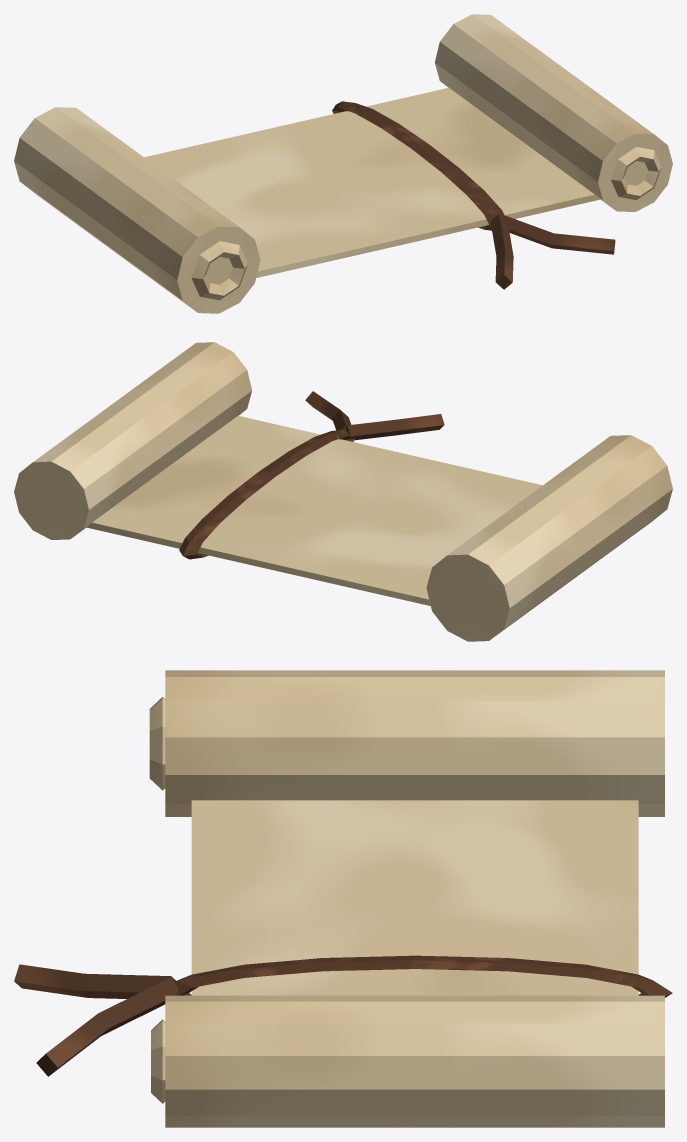
Rendered from parchment_scroll.glb.
The picture shows the model from 3 angles, top to bottom: view 1: azimuth 30°, elevation 25°; view 2: azimuth 150°, elevation 25°; view 3: azimuth 270°, elevation 25°; orthographic projection. The views are drawn at different scales.
Parts seen in each view (by area): view 1: parchment_scroll_parchment, parchment_scroll_tie_cord; view 2: parchment_scroll_parchment, parchment_scroll_tie_cord; view 3: parchment_scroll_parchment, parchment_scroll_tie_cord.
Part boxes in pixels (x1=…): parchment_scroll_parchment: x1=14, y1=14, x2=672, y2=313; parchment_scroll_tie_cord: x1=332, y1=101, x2=615, y2=289; parchment_scroll_parchment: x1=14, y1=342, x2=672, y2=641; parchment_scroll_tie_cord: x1=179, y1=391, x2=444, y2=559; parchment_scroll_parchment: x1=149, y1=670, x2=664, y2=1127; parchment_scroll_tie_cord: x1=14, y1=955, x2=672, y2=1076.
Size of what is drawn, in the model's own units: 0.3332 by 0.0577 by 0.2506.
Materials: 2 (2 with a texture image).
